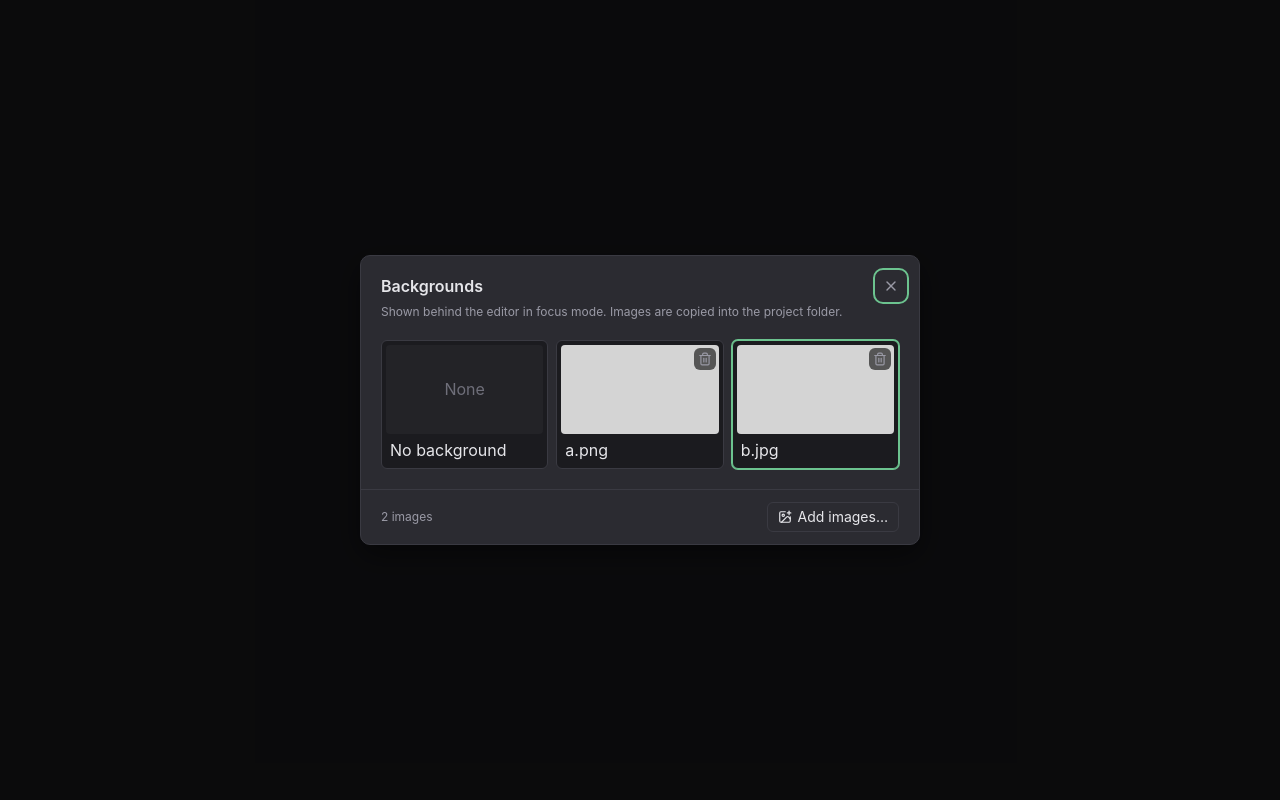
Test: BackgroundManager (F-6.2) › deletes after confirming and leaves the list alone when cancelled
This screenshot has width=1280, height=800.
Click the button named "Delete b.jpg" at coordinates (880, 359), box [869, 348, 891, 370]
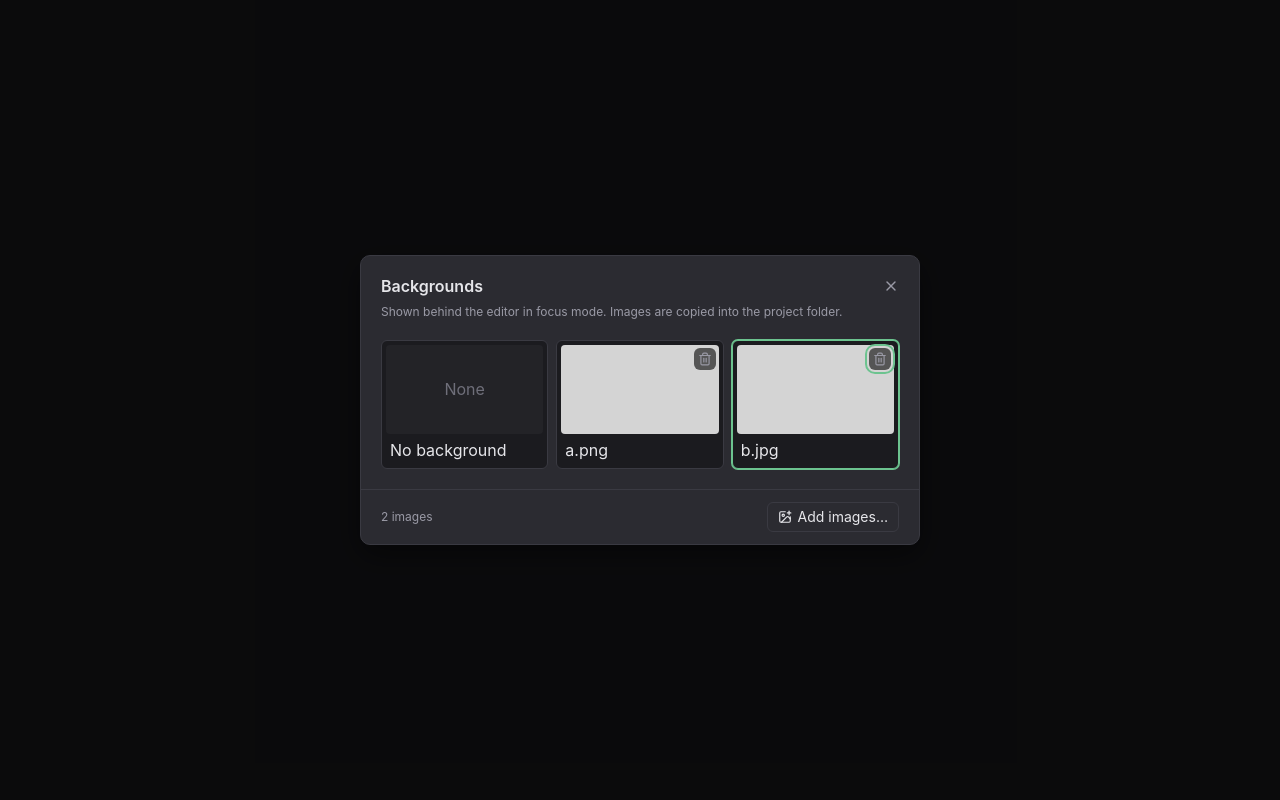
Click the button named "Delete b.jpg" at coordinates (880, 359), box [869, 348, 891, 370]
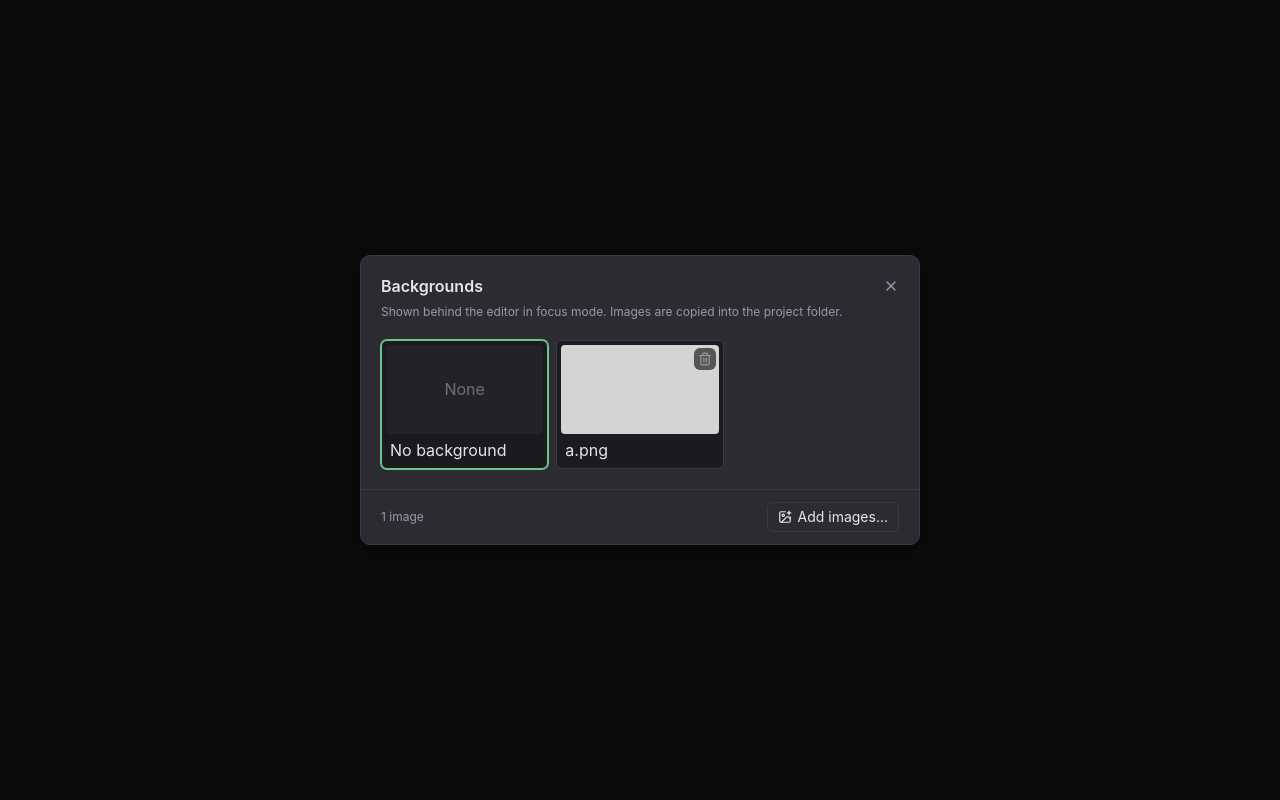
Expected: the button "b.jpg" is gone
Expected: the text "1 image" is shown, [381, 509, 424, 525]
